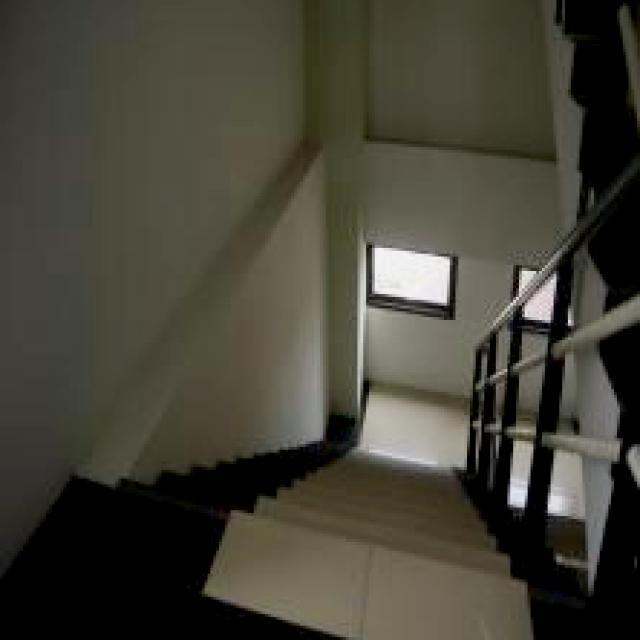downstair: (209, 465, 514, 640)
